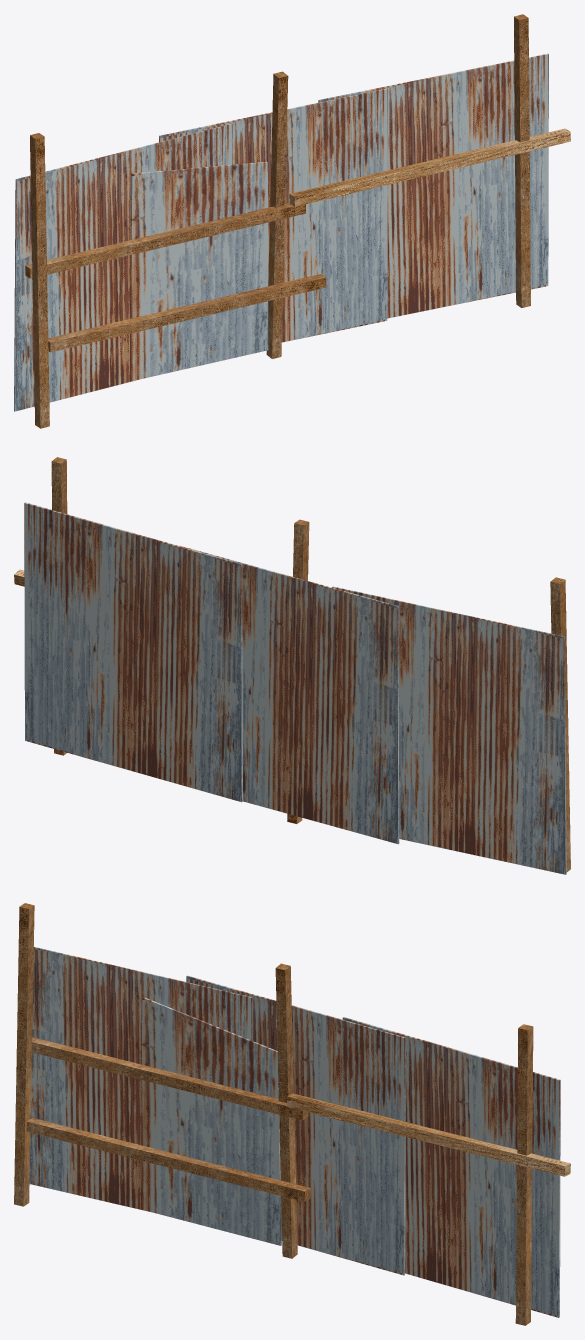
Rendered from Rusty Roof Fence.glb.
3 views of the same model, one above another, from view 1: azimuth 30°, elevation 25°; view 2: azimuth 150°, elevation 25°; view 3: azimuth 330°, elevation 25° (orthographic). The views are drawn at different scales.
Visible parts, largest first — view 1: Plane.012, Plane.015, Plane.013, Plane.014, Cube.007, Cube.008, Cube.011, Cube.009, Cube.006, Cube.012; view 2: Plane.012, Plane.015, Plane.013, Cube.007, Cube.012, Cube.008; view 3: Plane.012, Plane.015, Plane.013, Plane.014, Cube.007, Cube.008, Cube.011, Cube.009, Cube.006, Cube.012.
Boxes of the visible parts, bbox=[...] form: Plane.012: bbox=[318, 53, 548, 318]; Plane.015: bbox=[14, 123, 232, 411]; Plane.013: bbox=[159, 88, 387, 342]; Plane.014: bbox=[129, 161, 268, 381]; Cube.007: bbox=[30, 133, 49, 428]; Cube.008: bbox=[514, 14, 530, 307]; Cube.011: bbox=[48, 274, 326, 352]; Cube.009: bbox=[289, 128, 570, 206]; Cube.006: bbox=[25, 202, 305, 278]; Cube.012: bbox=[266, 71, 288, 358]; Plane.012: bbox=[24, 502, 242, 802]; Plane.015: bbox=[332, 586, 566, 874]; Plane.013: bbox=[180, 546, 399, 844]; Cube.007: bbox=[550, 577, 570, 872]; Cube.012: bbox=[287, 519, 309, 823]; Cube.008: bbox=[51, 457, 67, 755]; Plane.012: bbox=[342, 1017, 560, 1317]; Plane.015: bbox=[29, 947, 252, 1211]; Plane.013: bbox=[186, 975, 405, 1275]; Plane.014: bbox=[141, 997, 281, 1245]; Cube.007: bbox=[14, 903, 34, 1206]; Cube.008: bbox=[515, 1024, 533, 1325]; Cube.011: bbox=[26, 1118, 310, 1201]; Cube.009: bbox=[286, 1093, 570, 1176]; Cube.006: bbox=[32, 1037, 308, 1120]; Cube.012: bbox=[275, 963, 297, 1258].
Bounding box in the file's own units: 6.95 × 3.51 × 0.5887.
2 materials, 2 textured.
